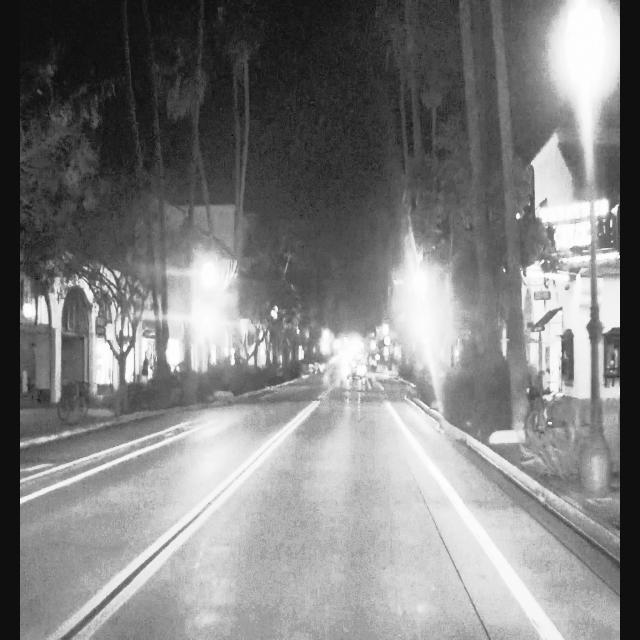Tree: (486, 0, 547, 447)
